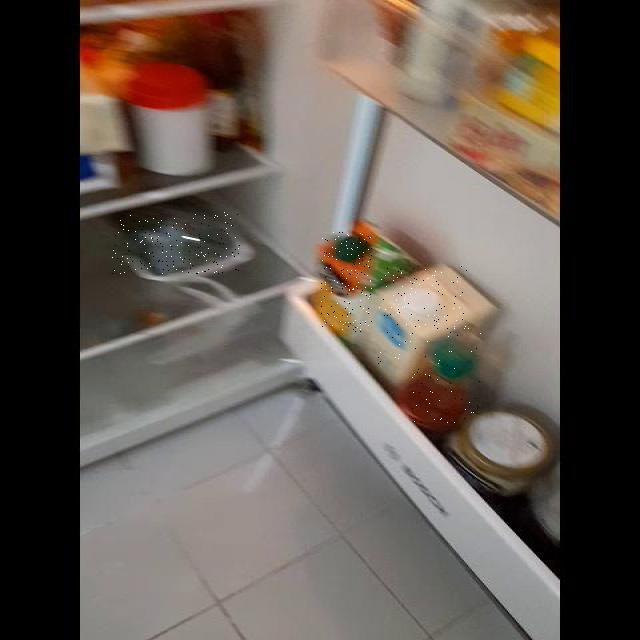broccoli: (112, 212, 240, 274)
juice: (321, 232, 372, 332)
milk: (377, 266, 467, 364)
sauce: (412, 325, 484, 423)
